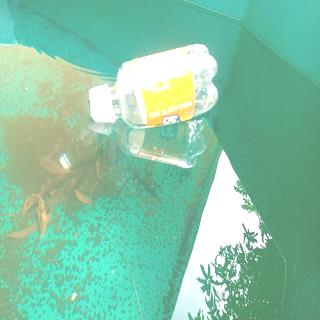bottle: (86, 37, 220, 131)
